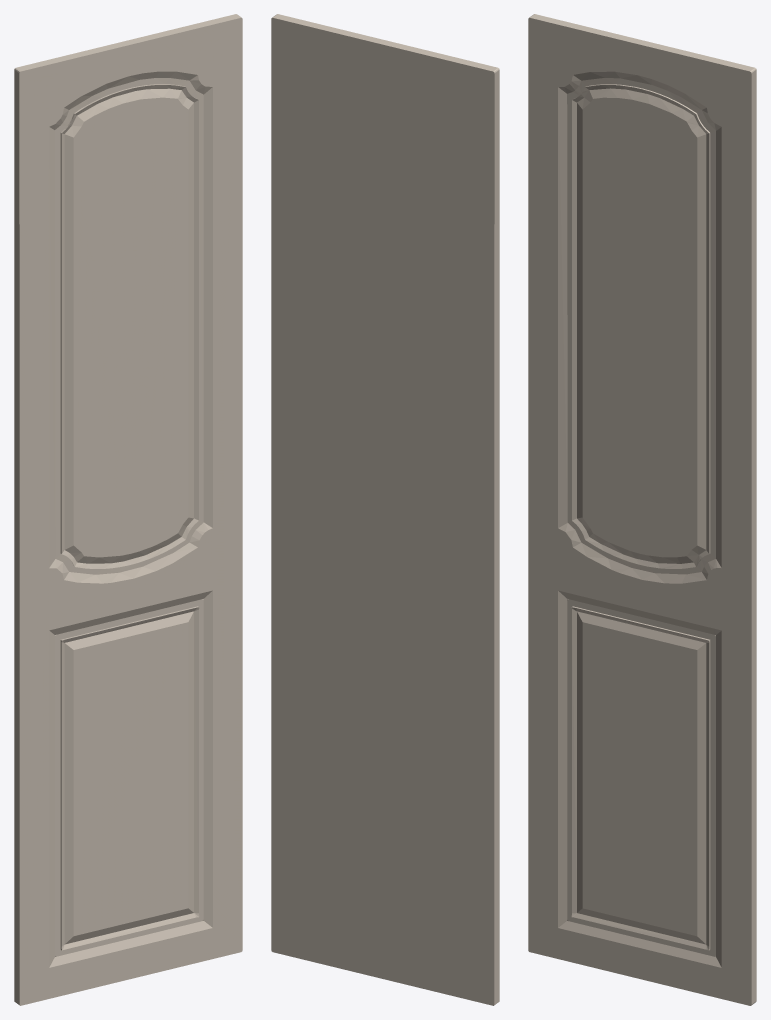
File: NRD BOY KPK 13.glb
3 renders of one model, left to right at view 1: azimuth 30°, elevation 25°; view 2: azimuth 150°, elevation 25°; view 3: azimuth 330°, elevation 25°, orthographic.
Parts seen in each view (by area): view 1: NRD BOY KPK 13; view 2: NRD BOY KPK 13; view 3: NRD BOY KPK 13.
Part boxes in pixels (x1,y1,x2,y2): NRD BOY KPK 13: (14,14,242,1005); NRD BOY KPK 13: (271,14,499,1005); NRD BOY KPK 13: (528,14,756,1005).
Bounding box in the file's own units: 0.4499 × 1.8 × 0.018.
